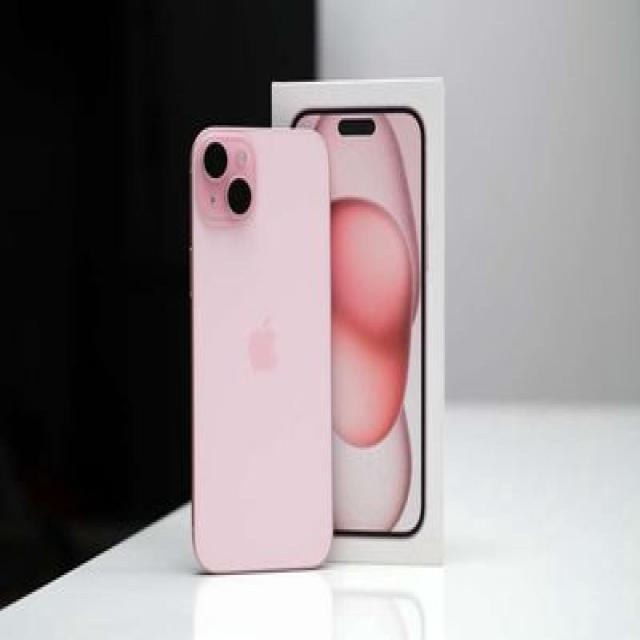gen_15: (184, 118, 338, 578)
